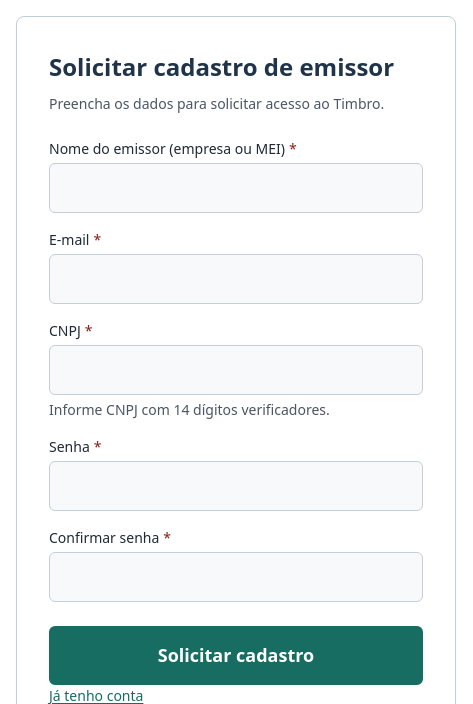
Test case: CadastroEmissorPage › mostra erro amigável para indisponibilidade
Type "Instituto Exemplo" into the field labelled "Nome do emissor (empresa ou MEI)*" at (236, 188), box [49,163,423,213]
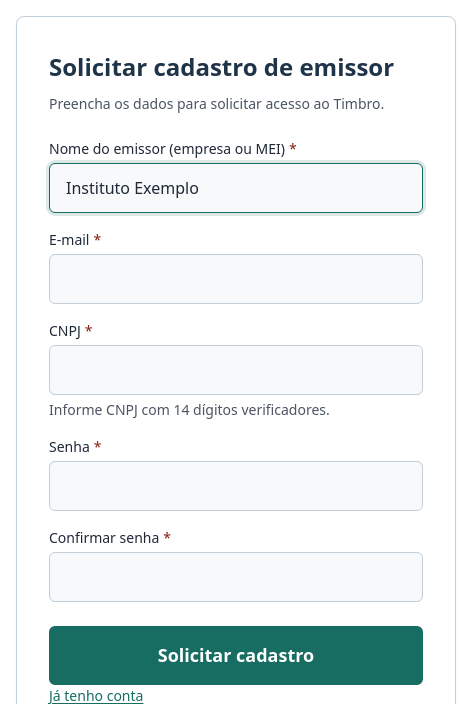
Type "nova@timbro.test" into the field labelled "E-mail*" at (236, 279), box [49,254,423,304]
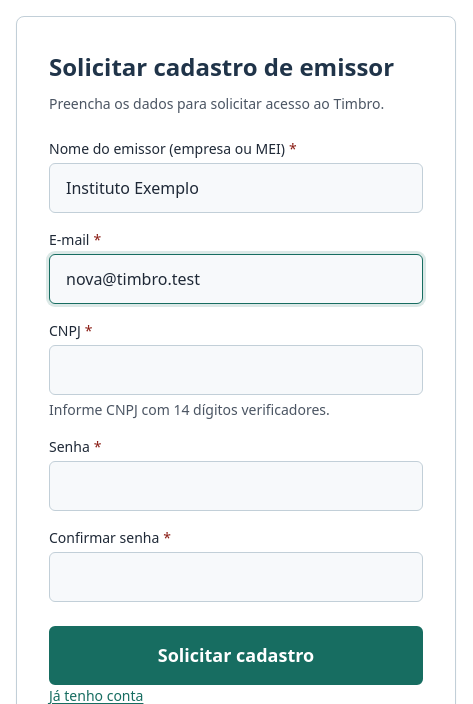
Type "11222333000181" into the field labelled "CNPJ*" at (236, 370), box [49,345,423,395]
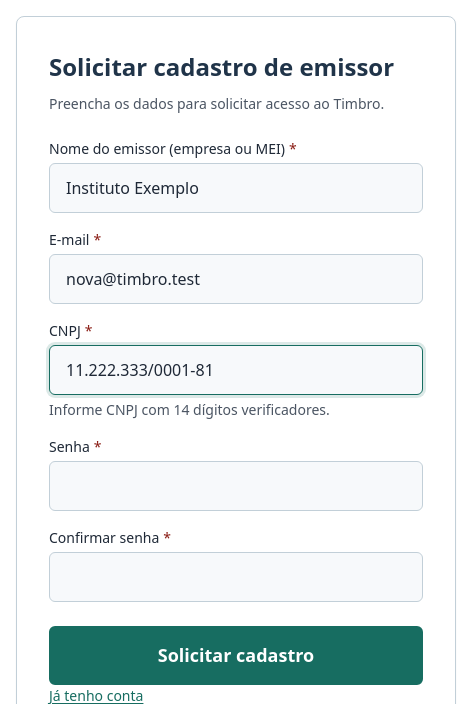
Type "senha123" into the password field labelled "Senha*" at (236, 486), box [49,461,423,511]
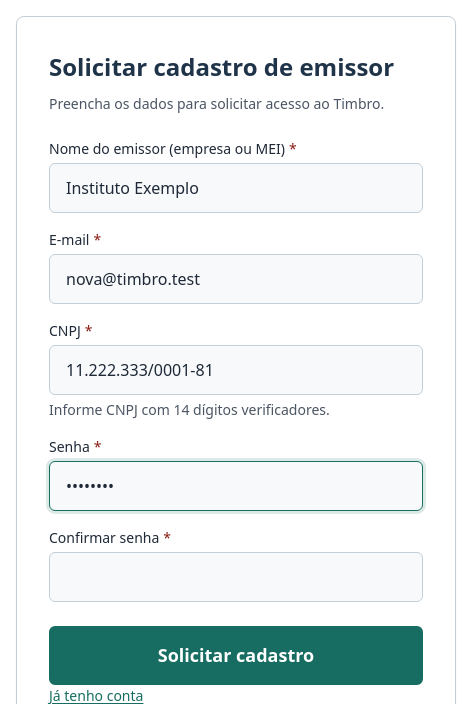
Type "senha123" into the password field labelled "Confirmar senha*" at (236, 577), box [49,552,423,602]
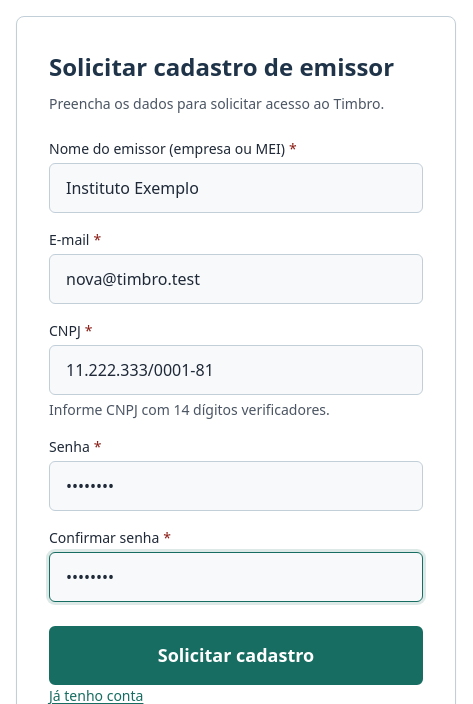
Click the button "Solicitar cadastro" at (236, 655), box [49,626,423,684]
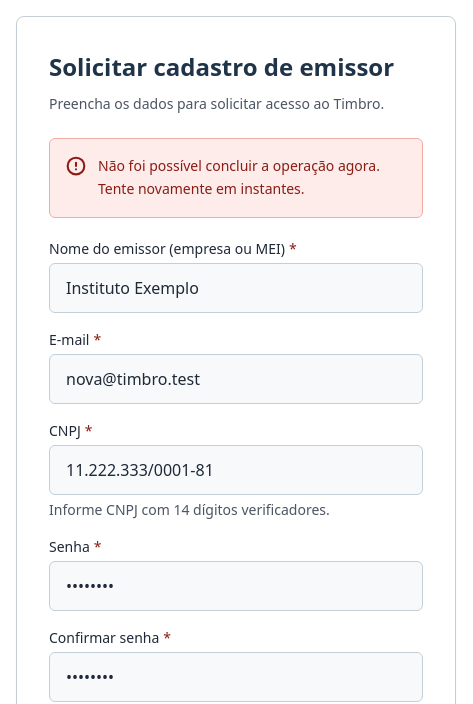
Check: the message does not show "segredo interno", box [49,138,423,218]
Check: the message reads "Não foi possível concluir a operação agora. Tente novamente em instantes.", box [98,156,380,198]
